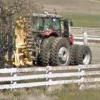Tractor: (19, 9, 93, 73)
